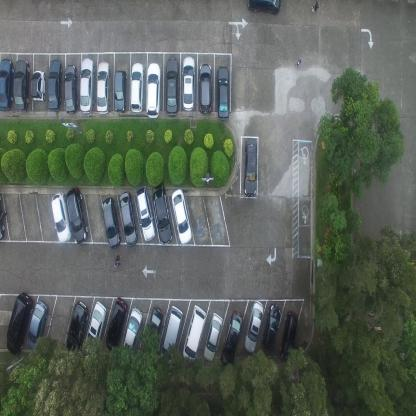car: (5, 291, 33, 356), (218, 311, 243, 371), (64, 298, 89, 354), (182, 305, 206, 363), (151, 180, 172, 244), (160, 304, 183, 361), (66, 186, 88, 244), (120, 305, 143, 359), (105, 296, 127, 352), (85, 301, 107, 357), (242, 300, 264, 355), (171, 188, 192, 245), (135, 185, 156, 241), (25, 299, 47, 350), (118, 191, 138, 247), (260, 304, 281, 356), (51, 192, 72, 244), (202, 312, 222, 364), (280, 313, 300, 365), (101, 196, 121, 248), (144, 304, 164, 356), (12, 58, 30, 112), (80, 56, 96, 115), (243, 136, 258, 198), (181, 53, 196, 112), (47, 58, 63, 113), (146, 62, 161, 120), (216, 64, 231, 121), (164, 55, 178, 116), (96, 60, 111, 114), (0, 58, 14, 113), (198, 61, 212, 115), (130, 62, 144, 114), (64, 63, 78, 115), (246, 0, 283, 18), (114, 68, 127, 113), (30, 70, 46, 103)
